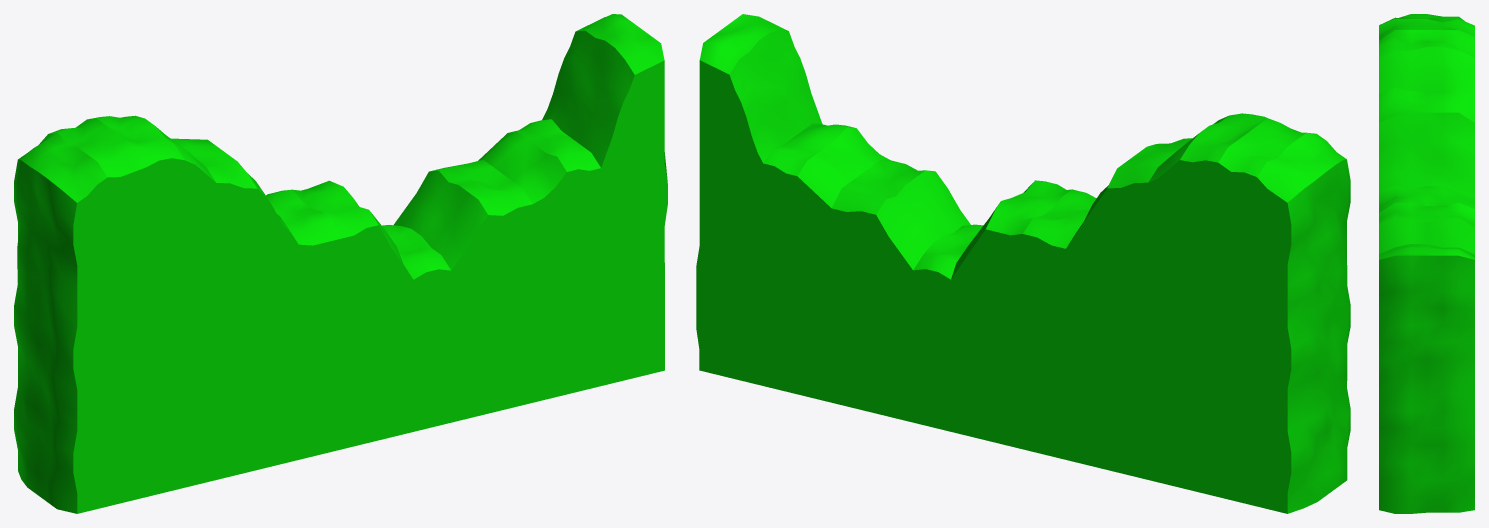
File: HalfWall_01_fbx.fbx
3 renders of one model, left to right at view 1: azimuth 30°, elevation 25°; view 2: azimuth 150°, elevation 25°; view 3: azimuth 270°, elevation 25°, orthographic. The views are drawn at different scales.
Visible parts, largest first — view 1: Hw__BrokenWall_01; view 2: Hw__BrokenWall_01; view 3: Hw__BrokenWall_01.
Boxes of the visible parts, x1=… form: Hw__BrokenWall_01: x1=14, y1=14, x2=667, y2=513; Hw__BrokenWall_01: x1=696, y1=14, x2=1350, y2=513; Hw__BrokenWall_01: x1=1379, y1=14, x2=1474, y2=513.
Bounding box in the file's own units: 2.07 × 1.11 × 0.35.
